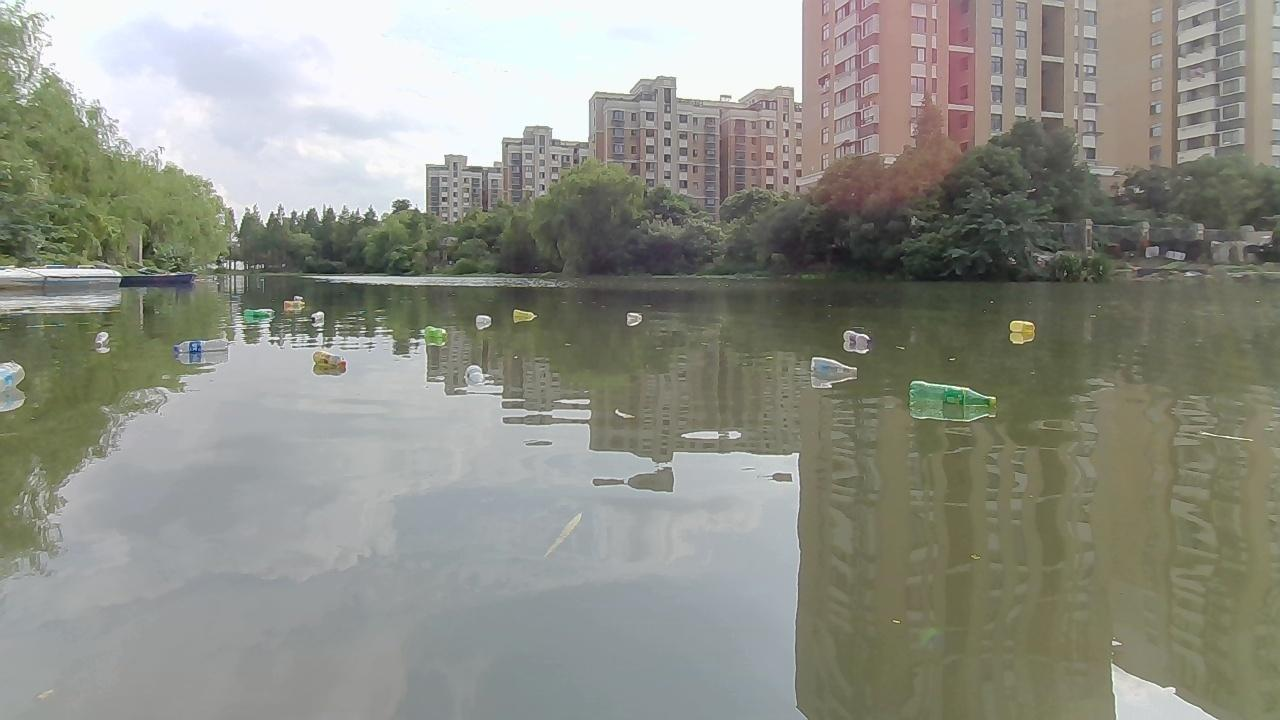bottle: (906, 378, 999, 410), (804, 355, 856, 379), (173, 337, 234, 357), (0, 358, 32, 396), (308, 347, 351, 375), (458, 362, 487, 385), (1006, 317, 1036, 339), (839, 327, 873, 346), (510, 307, 540, 322), (242, 305, 273, 319), (90, 327, 108, 347), (475, 312, 496, 329), (421, 323, 442, 340), (282, 298, 303, 314), (624, 311, 643, 325), (308, 312, 324, 325)
